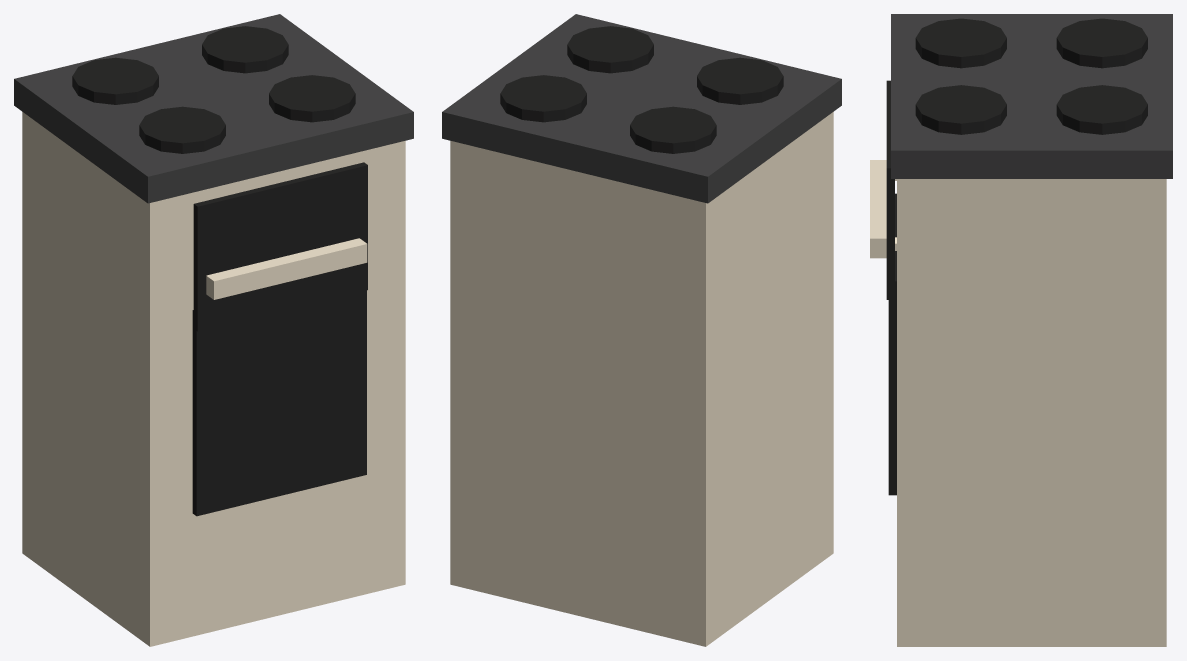
The picture shows the model from 3 angles, left to right: view 1: azimuth 30°, elevation 25°; view 2: azimuth 150°, elevation 25°; view 3: azimuth 270°, elevation 25°; orthographic projection. The views are drawn at different scales.
Visible parts, largest first — view 1: Stove, Hob, Oven window, Upper oven window, Door handle, Burner.003, Burner.002, Burner, Burner.001; view 2: Stove, Hob, Burner.002, Burner.003, Burner.001, Burner; view 3: Stove, Hob, Burner.002, Burner.003, Burner, Burner.001, Oven window, Door handle, Upper oven window.
Boxes of the visible parts, x1,y1,x2,y2 form: Stove: (22,112,405,646); Hob: (14,14,413,203); Oven window: (192,290,366,516); Upper oven window: (193,162,367,331); Door handle: (206,238,367,299); Burner.003: (202,26,288,73); Burner.002: (269,75,355,122); Burner: (139,106,225,153); Burner.001: (72,57,158,104); Stove: (450,112,833,646); Hob: (442,14,841,203); Burner.002: (567,26,653,73); Burner.003: (500,75,586,122); Burner.001: (630,106,716,153); Burner: (697,57,783,104); Stove: (897,179,1166,646); Hob: (891,14,1172,178); Burner.002: (915,85,1006,134); Burner.003: (1056,85,1147,134); Burner: (915,18,1006,68); Burner.001: (1056,18,1147,68); Oven window: (888,193,896,495); Door handle: (870,160,886,258); Upper oven window: (886,80,894,299).
Bounding box in the file's own units: 78 × 136 × 73.
